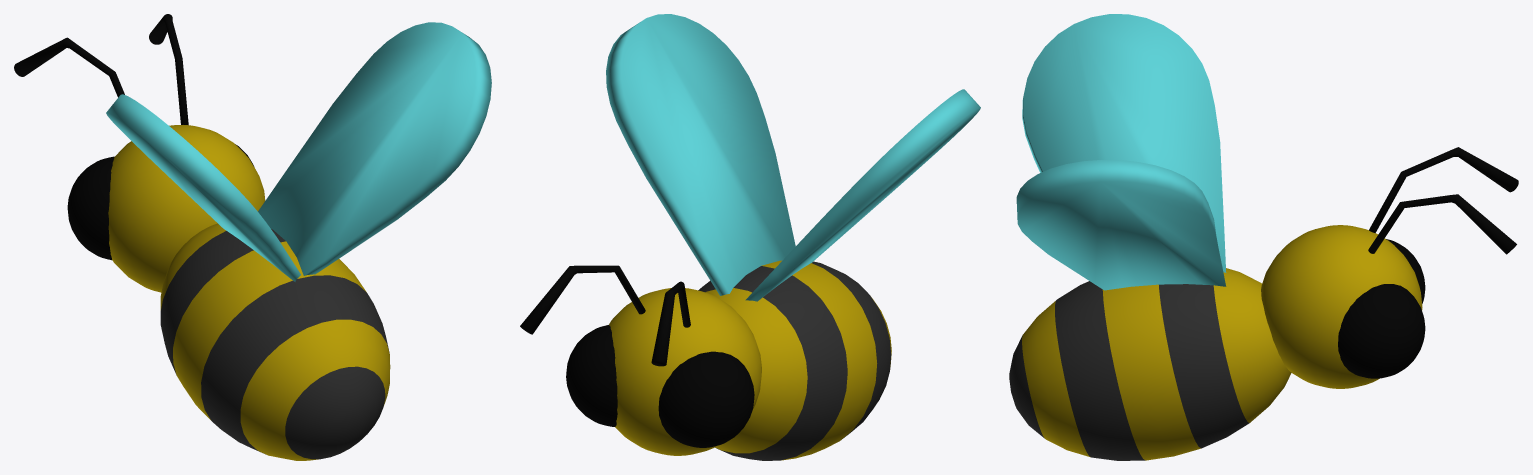
Rendered from bee.fbx.
The picture shows the model from 3 angles, left to right: view 1: azimuth 30°, elevation 25°; view 2: azimuth 150°, elevation 25°; view 3: azimuth 270°, elevation 25°; orthographic projection. The views are drawn at different scales.
Parts seen in each view (by area): view 1: Body, Circle, Head, Circle.001, EyeL, AntenaL, AntenaR; view 2: Circle, Body, Head, Circle.001, EyeL, EyeR, AntenaR, AntenaL; view 3: Body, Circle.001, Circle, Head, EyeR, AntenaL, AntenaR.
Boxes of the visible parts, x1,y1,x2,y2 form: Body: (160, 223, 390, 460); Circle: (258, 22, 491, 275); Head: (108, 125, 265, 292); Circle.001: (106, 94, 300, 281); EyeL: (67, 156, 114, 260); AntenaL: (14, 37, 124, 97); AntenaR: (149, 14, 188, 125); Circle: (606, 14, 795, 295); Body: (698, 260, 891, 460); Head: (609, 288, 761, 455); Circle.001: (745, 89, 980, 301); EyeL: (658, 351, 754, 447); EyeR: (566, 325, 617, 426); AntenaR: (520, 265, 645, 334); AntenaL: (651, 281, 690, 366); Body: (1009, 268, 1291, 460); Circle.001: (1022, 14, 1226, 272); Circle: (1016, 160, 1226, 290); Head: (1261, 225, 1422, 388); EyeR: (1338, 284, 1425, 378); AntenaL: (1369, 147, 1518, 233); AntenaR: (1368, 194, 1516, 254).
Bounding box in the file's own units: 468 × 495 × 621.
